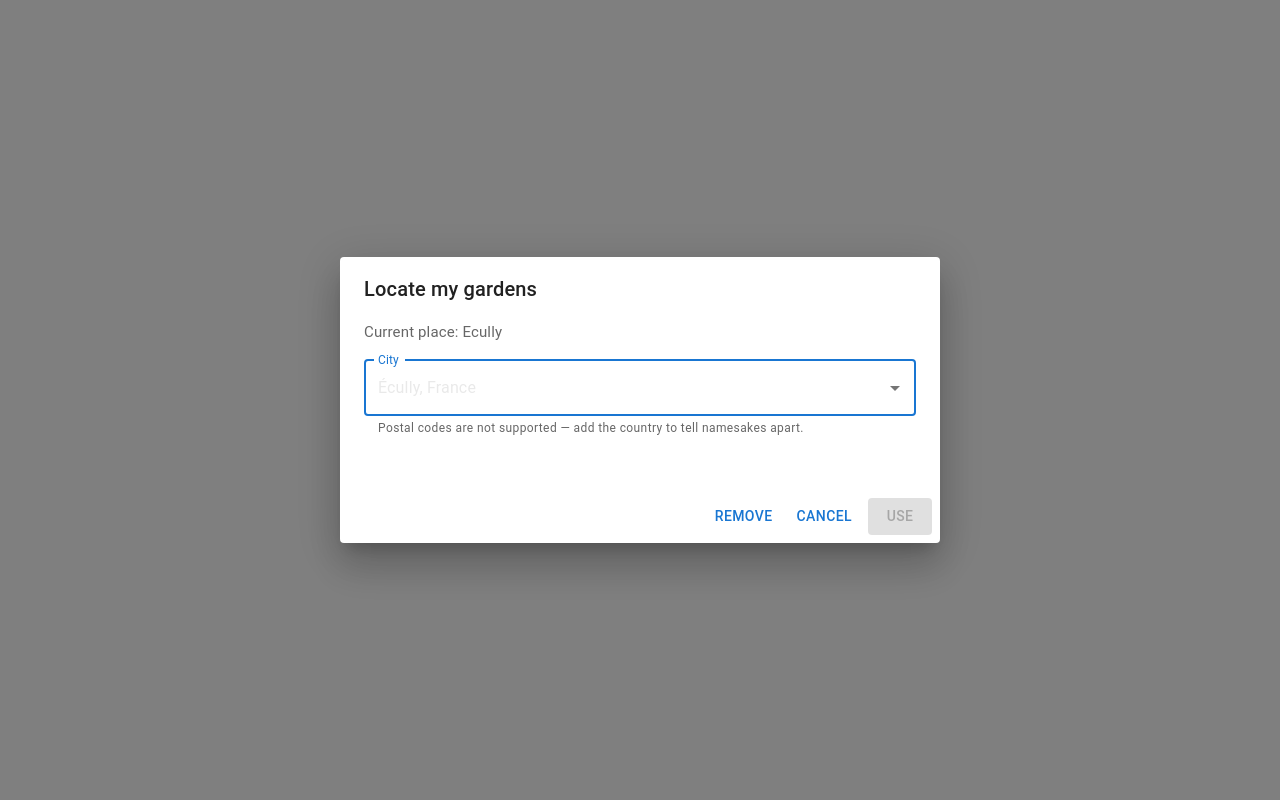
LocationDialog — the door to CHANGE or REMOVE a location (round 1, V21) › a failed « Remove » is reported inline and the dialog stays open
Click the button "Remove" at {"x": 744, "y": 517}, box [707,498,780,535]
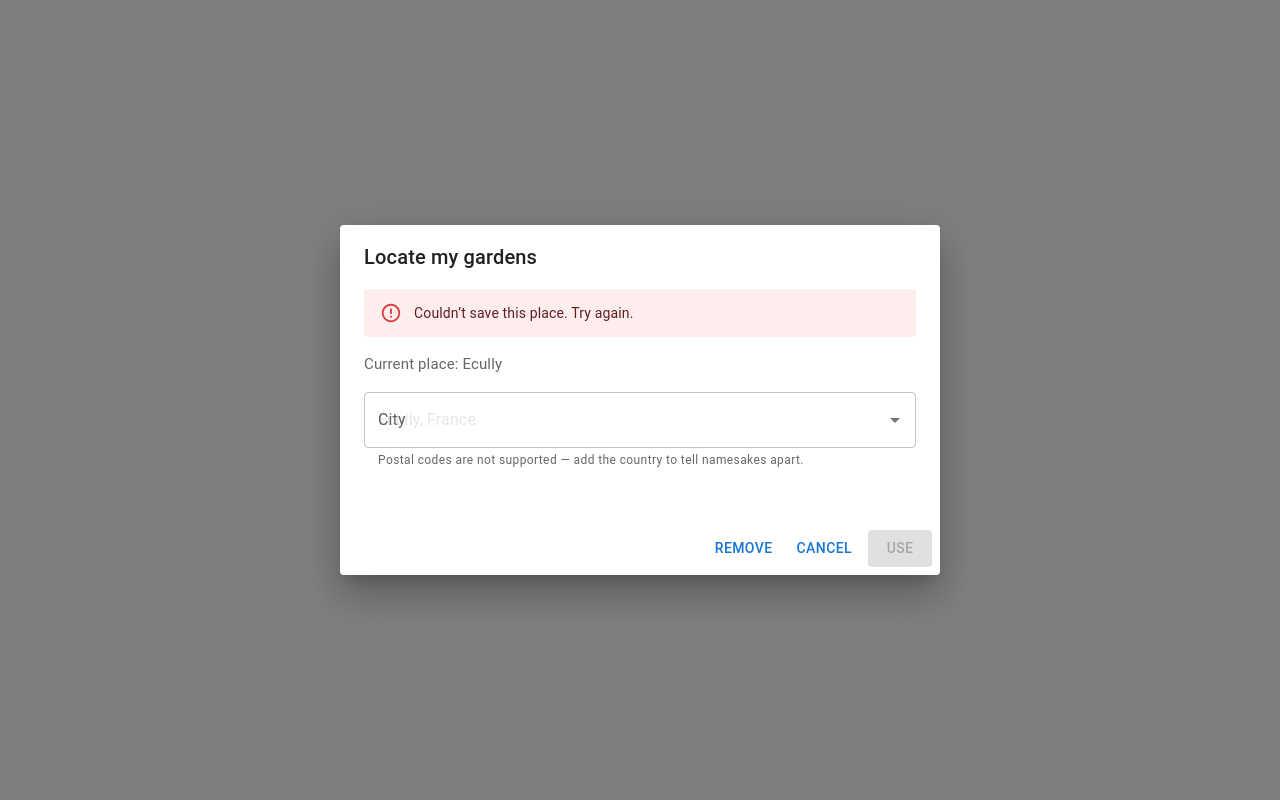
Expected: the button "Remove" is enabled, [707,530,780,567]
Result: the message reads "Couldn’t save this place. Try again." at [414,305,634,321]
